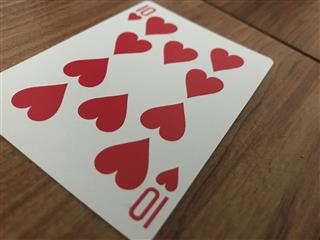TenOfHearts: (1, 1, 274, 240)
